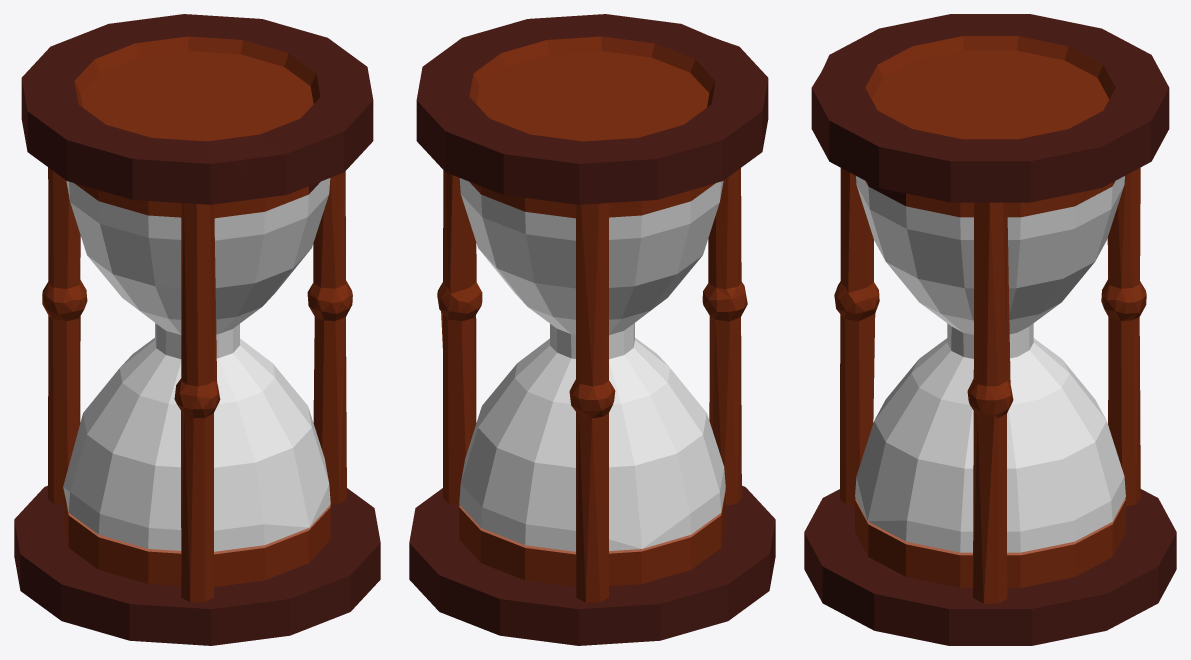
File: Hourglass_1.fbx
3 renders of one model, left to right at view 1: azimuth 30°, elevation 25°; view 2: azimuth 150°, elevation 25°; view 3: azimuth 270°, elevation 25°, orthographic.
Parts seen in each view (by area): view 1: Hourglass; view 2: Hourglass; view 3: Hourglass.
Boxes of the visible parts, bbox=[...] form: Hourglass: bbox=[14, 14, 380, 645]; Hourglass: bbox=[409, 14, 775, 645]; Hourglass: bbox=[804, 14, 1176, 645].
Size of the model in its own units: 38.61 by 56.47 by 39.6.
